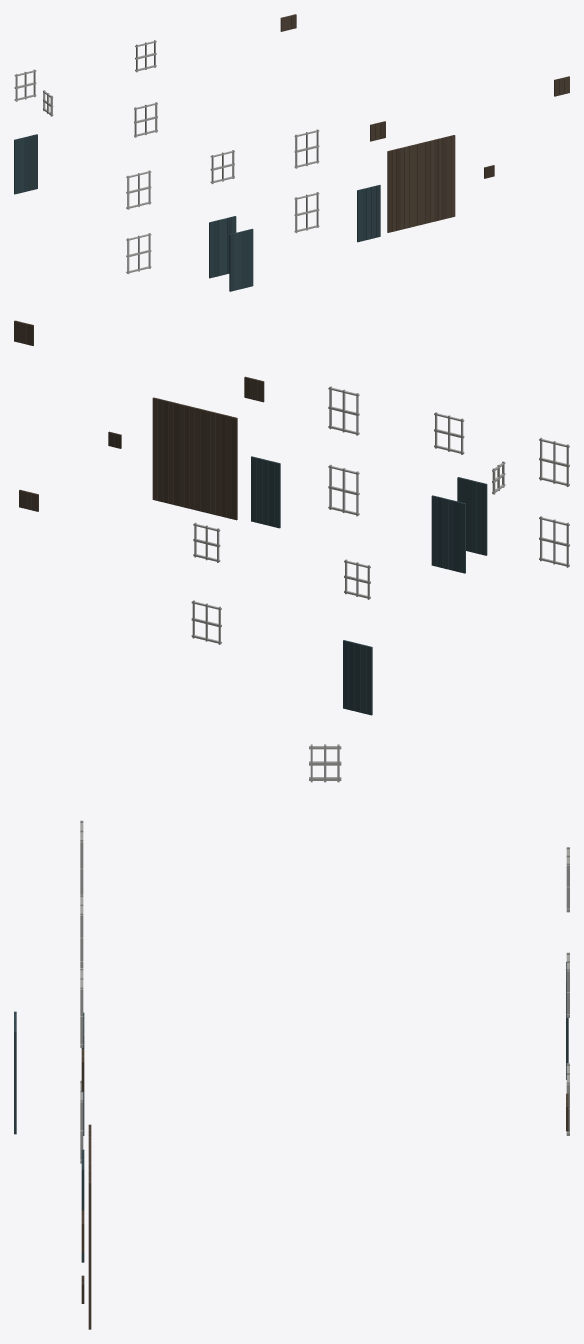
The model's file is SM_Bld_114_Wood.glb.
The picture shows the model from 3 angles, top to bottom: view 1: azimuth 30°, elevation 25°; view 2: azimuth 150°, elevation 25°; view 3: azimuth 270°, elevation 25°; orthographic projection. The views are drawn at different scales.
Parts seen in each view (by area): view 1: SM_Bld_114_Wood; view 2: SM_Bld_114_Wood; view 3: SM_Bld_114_Wood.
Boxes of the visible parts, <box> form: SM_Bld_114_Wood: <box>14,14,569,291</box>; SM_Bld_114_Wood: <box>14,320,569,715</box>; SM_Bld_114_Wood: <box>14,744,569,1329</box>.
Size of the model in its own units: 17.57 by 5.85 by 10.34.
